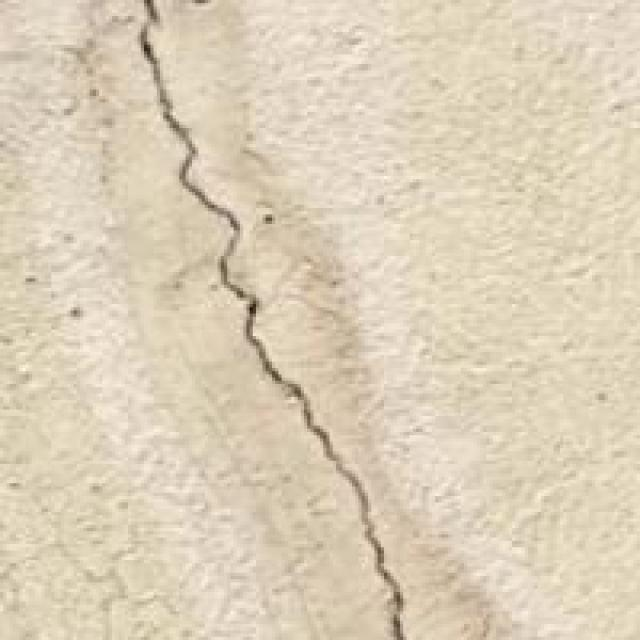Crack: (134, 3, 416, 637)
